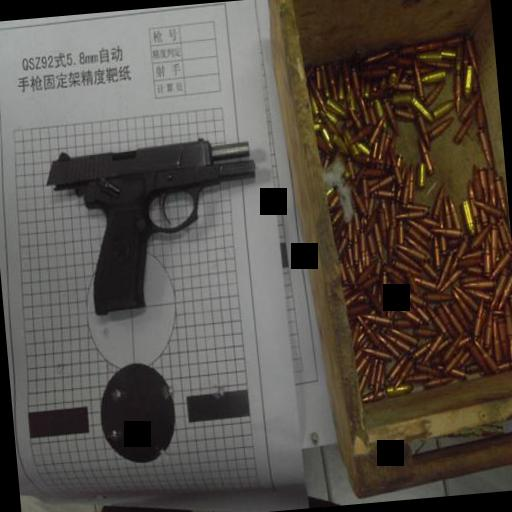Handgun: (41, 130, 266, 319)
